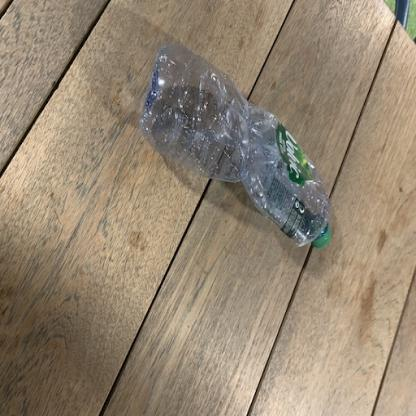trash: (141, 39, 336, 259)
